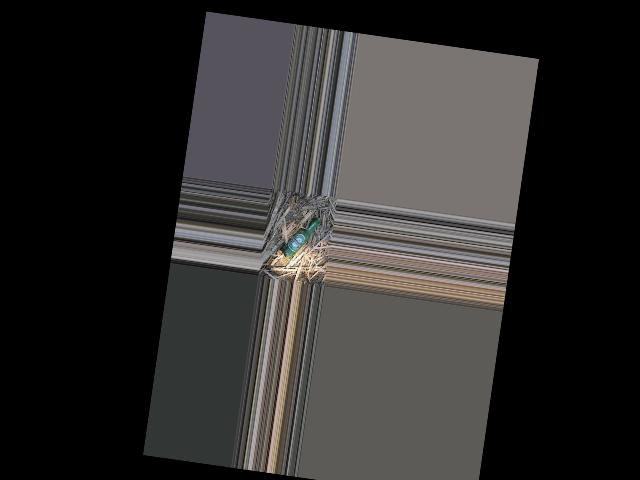beer: (278, 212, 320, 261)
